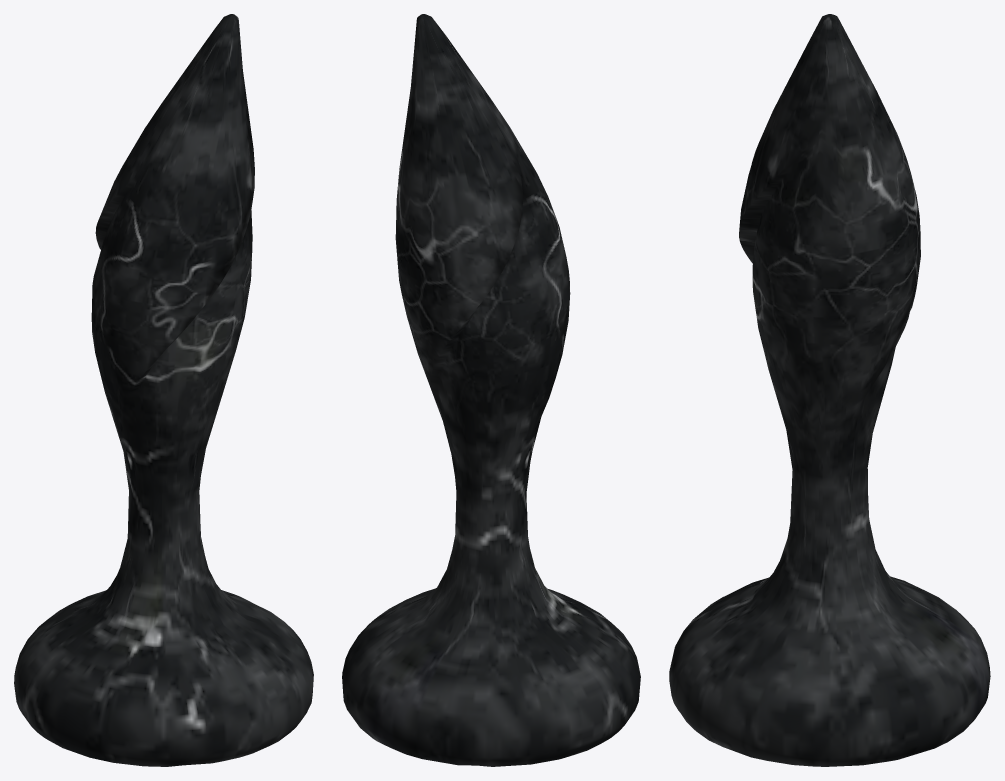
Rendered from Serpentina_queen_black.glb.
3 views of the same model, side by side, from view 1: azimuth 30°, elevation 25°; view 2: azimuth 150°, elevation 25°; view 3: azimuth 270°, elevation 25° (orthographic). The views are drawn at different scales.
Visible parts, largest first — view 1: Serpentina_queen_black; view 2: Serpentina_queen_black; view 3: Serpentina_queen_black.
Boxes of the visible parts, bbox=[...] form: Serpentina_queen_black: bbox=[14, 14, 313, 766]; Serpentina_queen_black: bbox=[342, 14, 640, 766]; Serpentina_queen_black: bbox=[669, 14, 990, 766].
Size of the model in its own units: 0.0381 by 0.0952 by 0.0381.
1 material, 1 textured.
